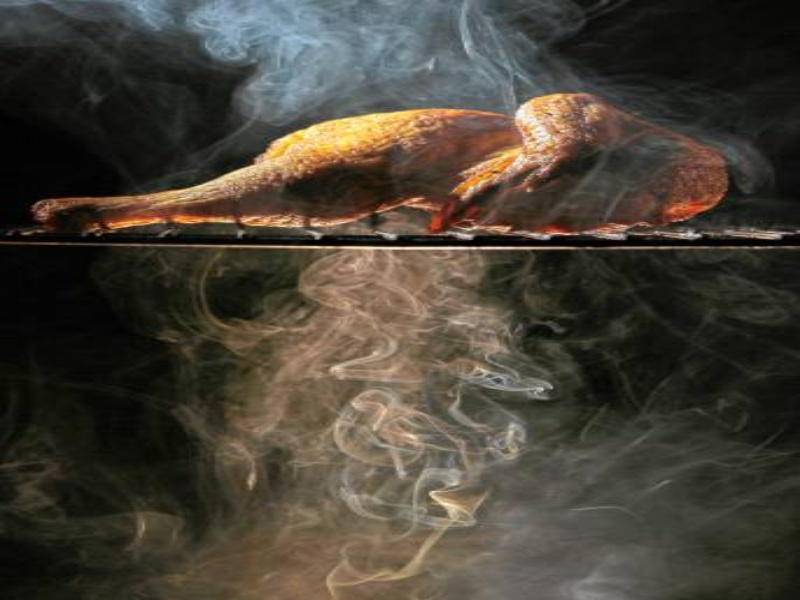smoke: (197, 4, 537, 583)
